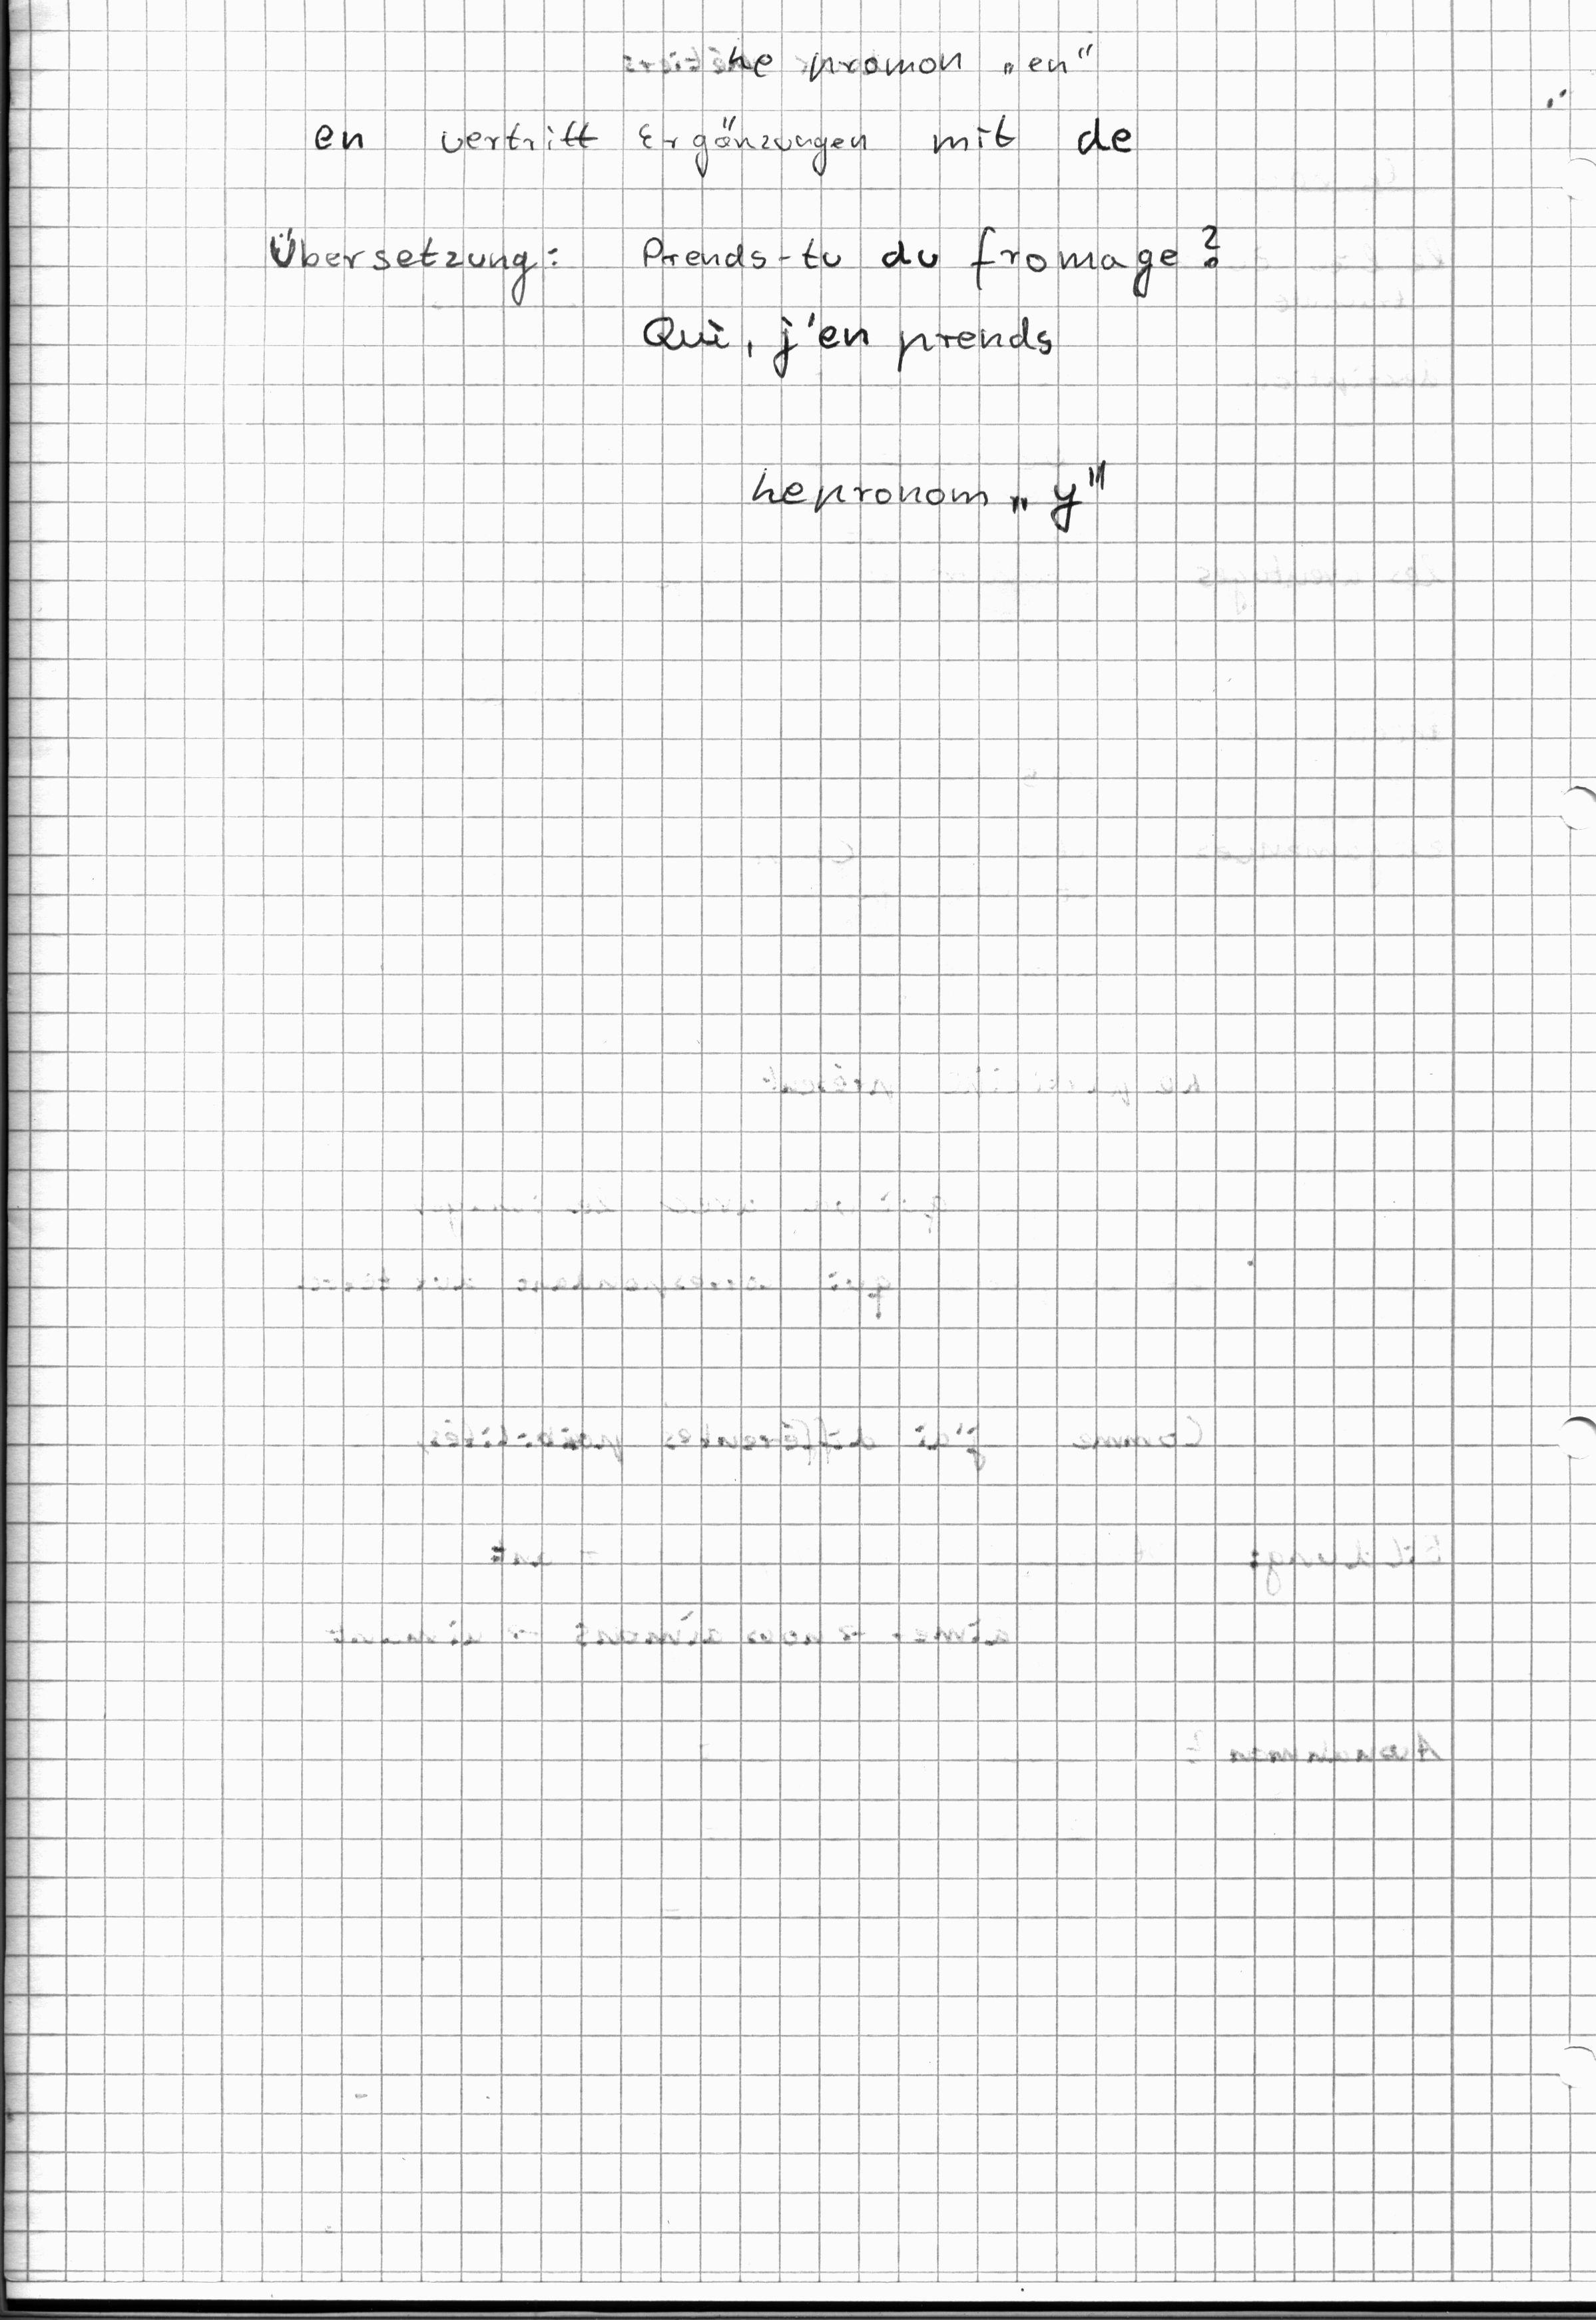word: (621, 217, 1237, 397), (295, 96, 1141, 194), (736, 437, 1121, 556), (246, 194, 562, 316)
